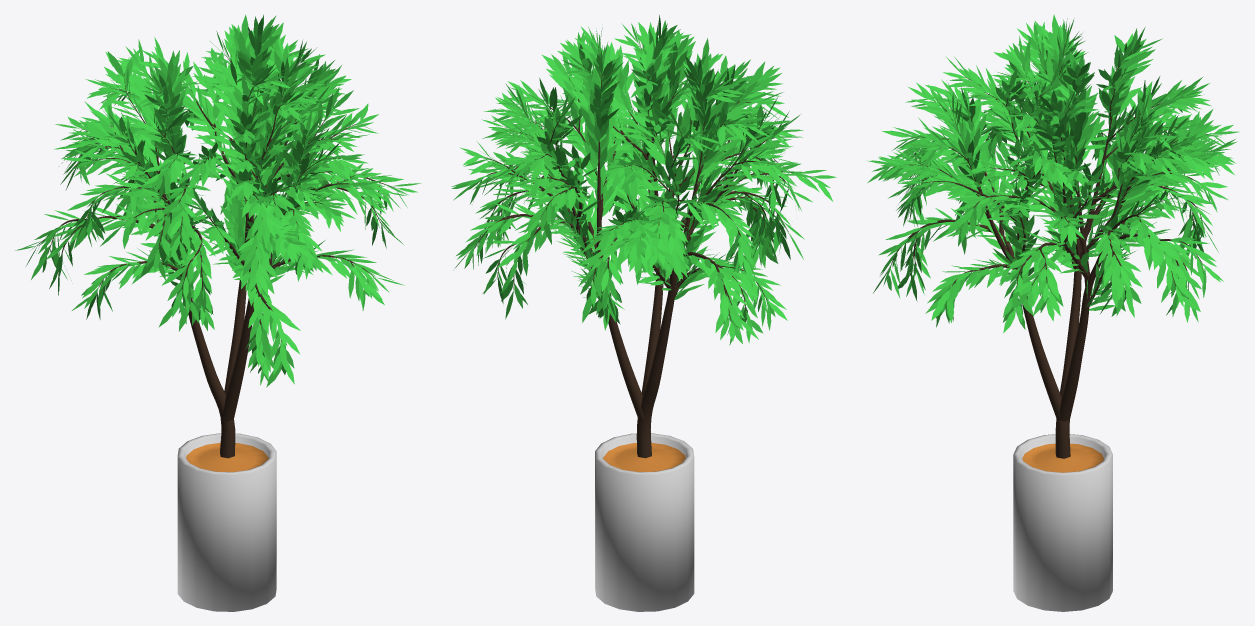
Rendered from tree.fbx.
3 renders of one model, left to right at view 1: azimuth 30°, elevation 25°; view 2: azimuth 150°, elevation 25°; view 3: azimuth 270°, elevation 25°, orthographic.
Visible parts, largest first — view 1: leaves; view 2: leaves; view 3: leaves.
Boxes of the visible parts, x1,y1,x2,y2 form: leaves: (15,14,421,611); leaves: (451,15,836,611); leaves: (867,14,1238,611).
Size of the model in its own units: 471 by 757 by 459.
